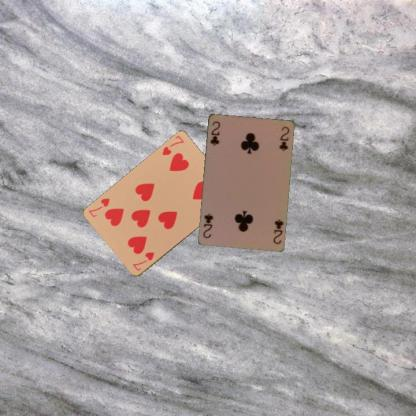2c: (207, 118, 221, 147), (270, 216, 284, 245)
7h: (159, 133, 185, 157), (130, 250, 155, 272)
